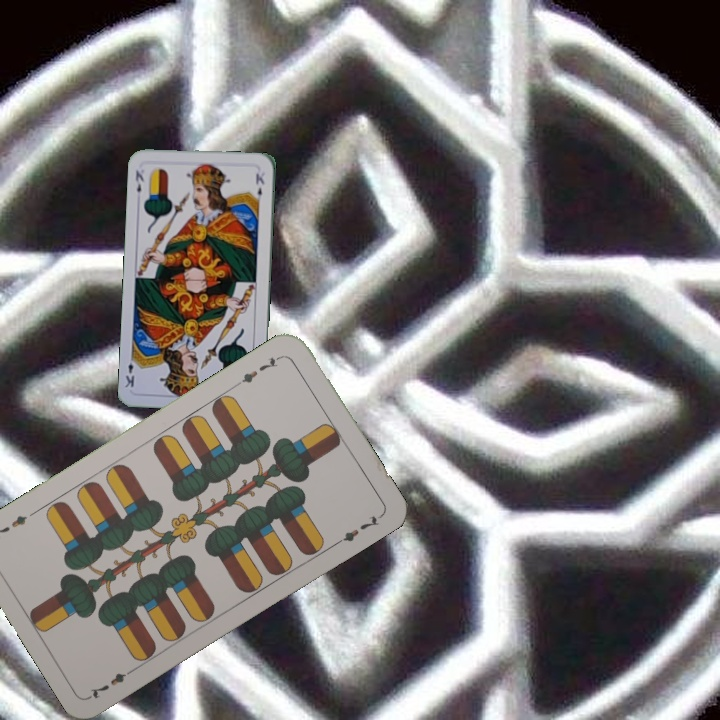E7: (85, 664, 139, 702), (237, 351, 285, 386)
EK: (131, 166, 147, 195)
